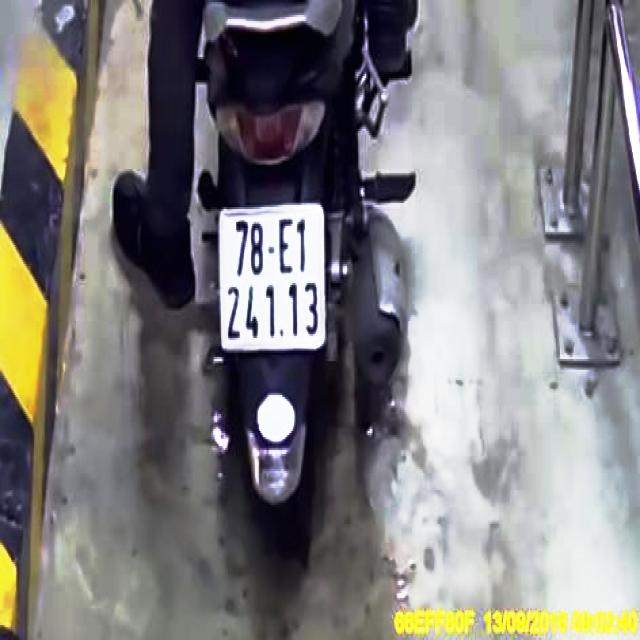license_plate: (220, 206, 327, 352)
